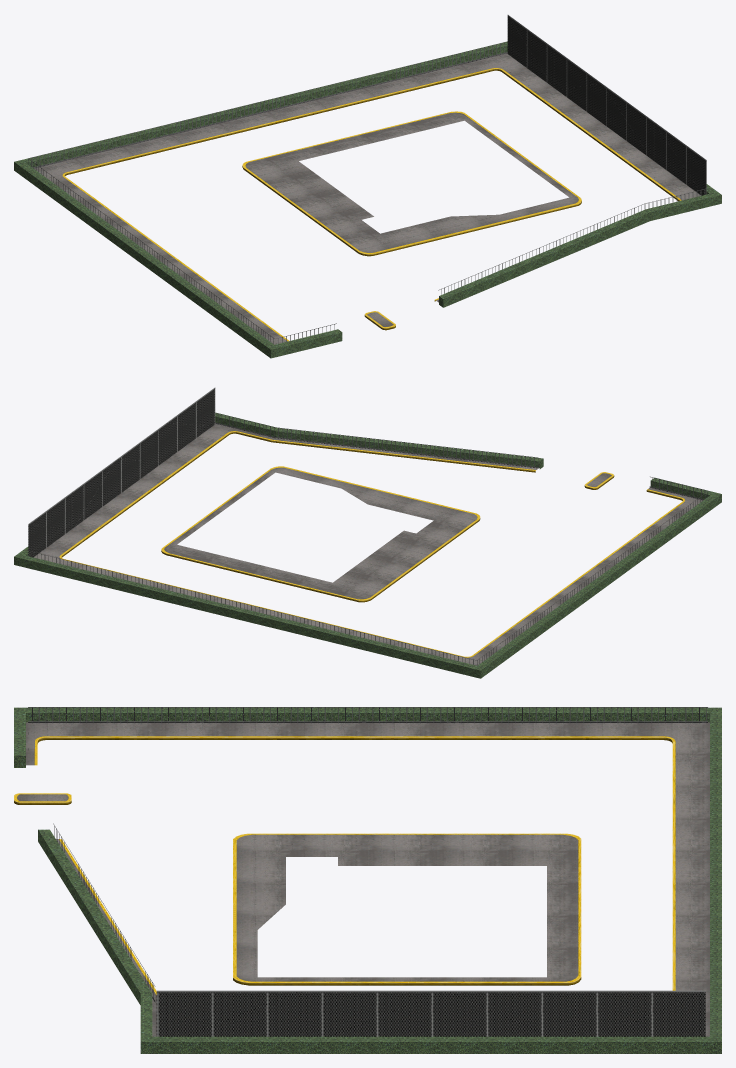
The model's file is burgerland1.obj.
The picture shows the model from 3 angles, top to bottom: view 1: azimuth 30°, elevation 25°; view 2: azimuth 150°, elevation 25°; view 3: azimuth 270°, elevation 25°; orthographic projection. The views are drawn at different scales.
Visible parts, largest first — view 1: burgerland1; view 2: burgerland1; view 3: burgerland1.
Boxes of the visible parts, left/top/right/bottom form: burgerland1: left=14, top=15, right=721, bottom=358; burgerland1: left=14, top=387, right=721, bottom=678; burgerland1: left=14, top=707, right=721, bottom=1053.
Bounding box in the file's own units: 66.65 × 5.31 × 59.66.
5 materials, 5 textured.
